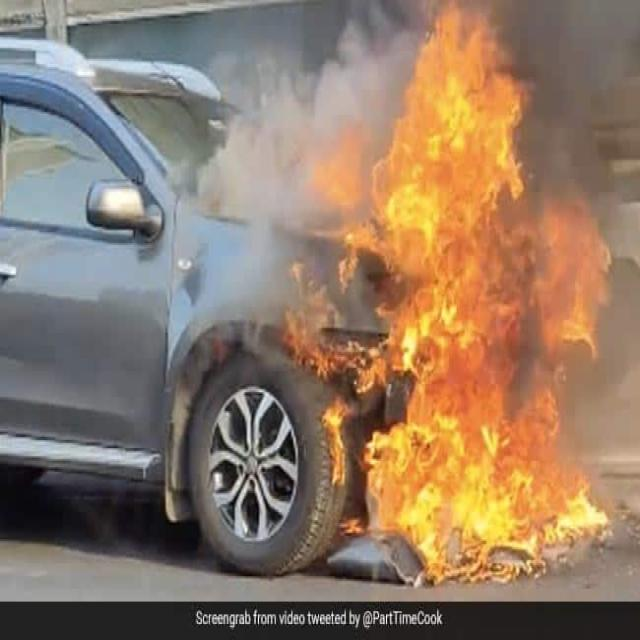accident: (0, 8, 610, 584)
